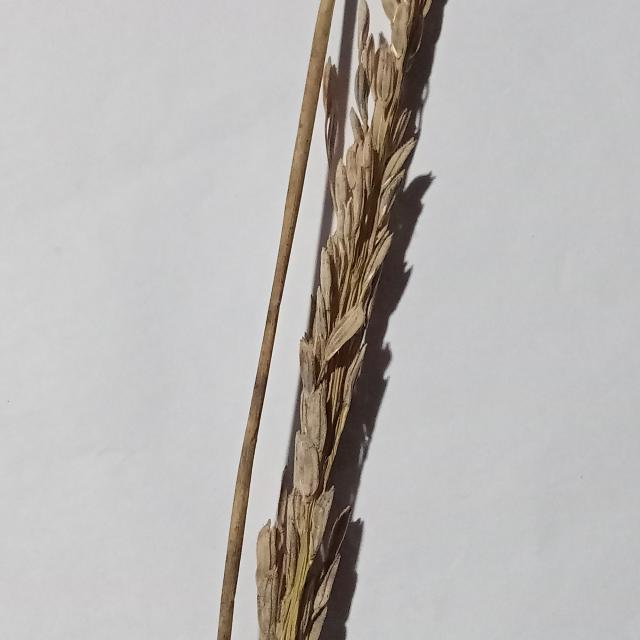Neck_Blast: (262, 0, 438, 636), (216, 0, 341, 640)
